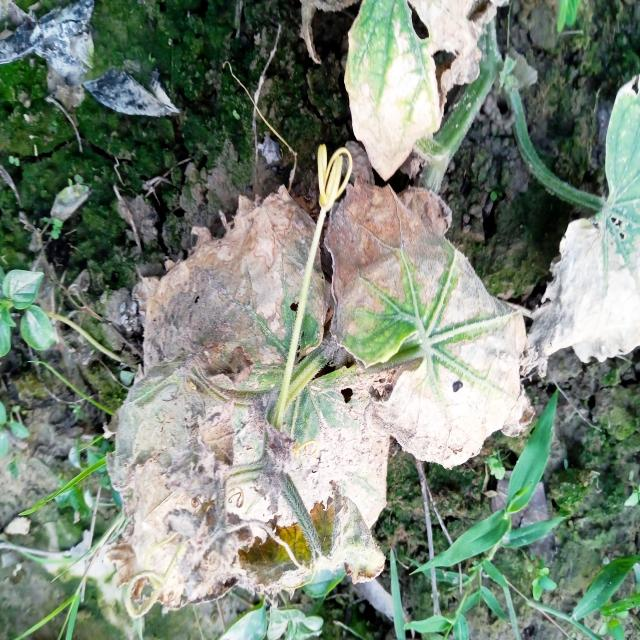Bacterial-Wilt: (100, 180, 529, 606)
